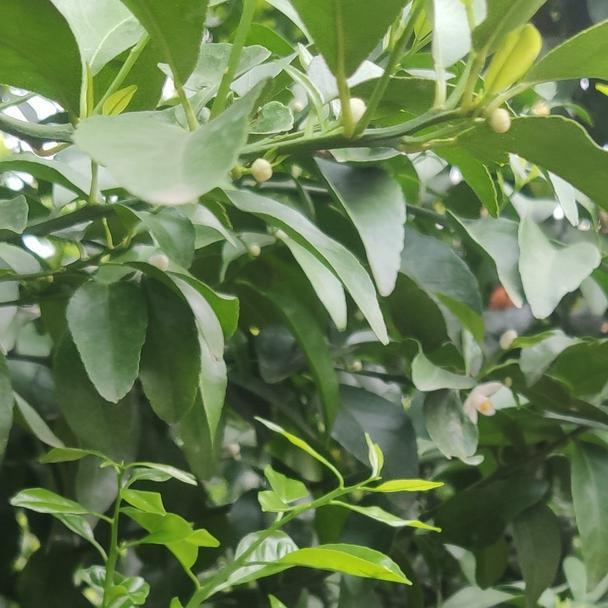shoot: (226, 417, 447, 608), (26, 433, 214, 608)
